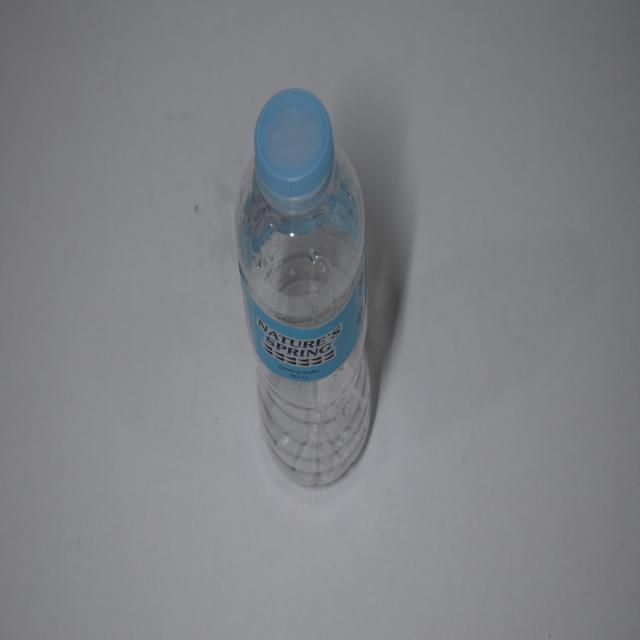empty: (235, 89, 370, 485)
